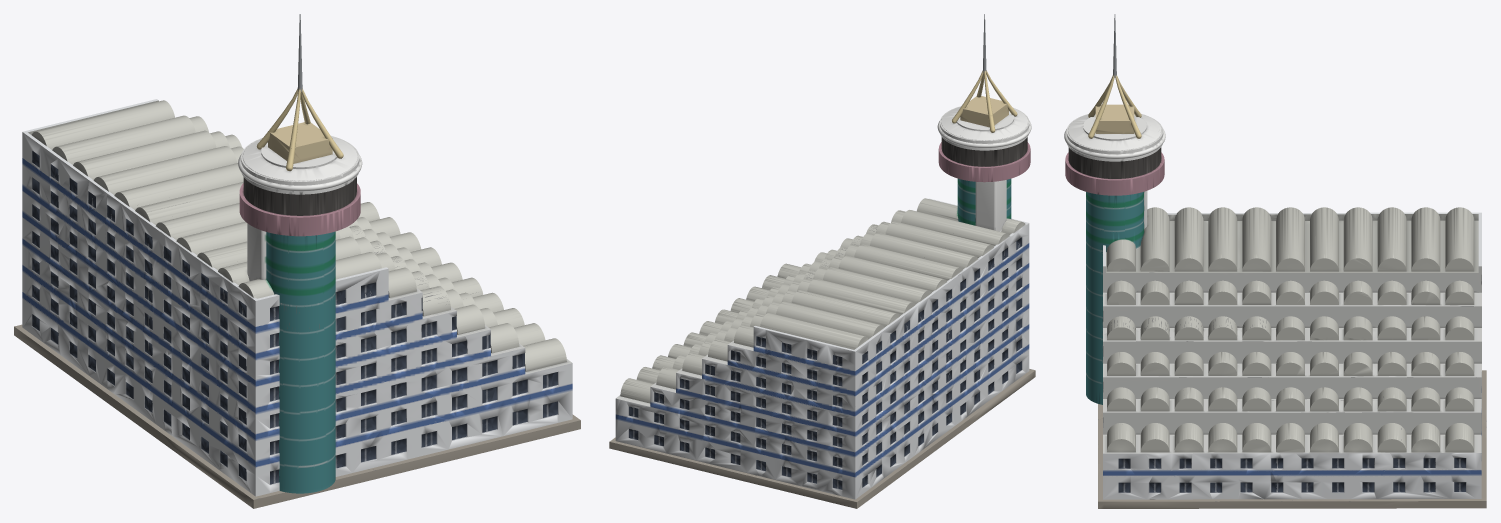
The model's file is cao_oc_sen_bien.glb.
3 views of the same model, side by side, from view 1: azimuth 30°, elevation 25°; view 2: azimuth 150°, elevation 25°; view 3: azimuth 270°, elevation 25° (orthographic). The views are drawn at different scales.
Parts seen in each view (by area): view 1: cao_oc_sen_bien; view 2: cao_oc_sen_bien; view 3: cao_oc_sen_bien.
Part boxes in pixels (x1,y1,x2,y2): cao_oc_sen_bien: [14, 14, 580, 508]; cao_oc_sen_bien: [609, 14, 1035, 508]; cao_oc_sen_bien: [1064, 14, 1486, 508].
Size of the model in its own units: 38.55 by 53 by 52.45.
2 materials, 2 textured.
